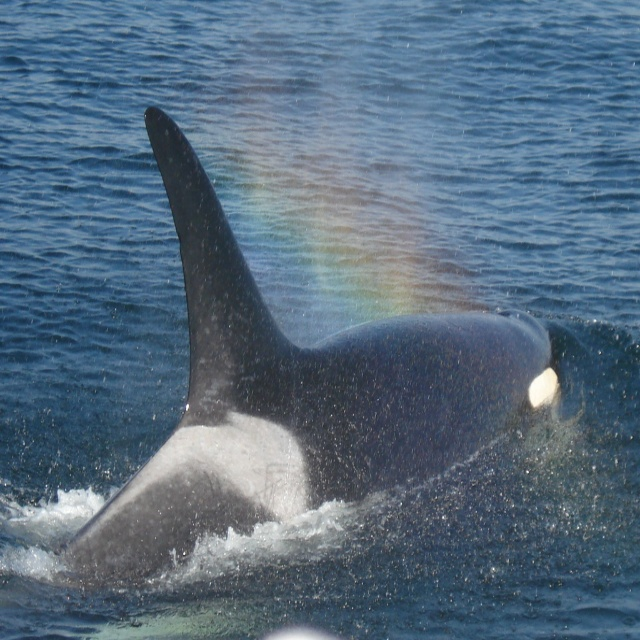Whale: (48, 106, 558, 597)
